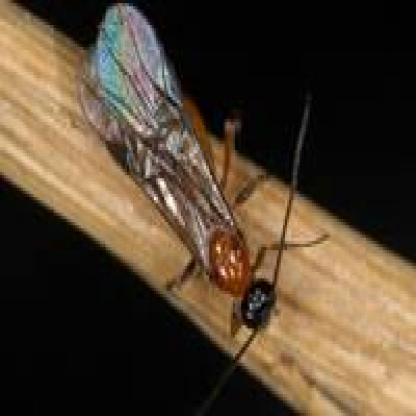sawfly: (77, 0, 318, 414)
